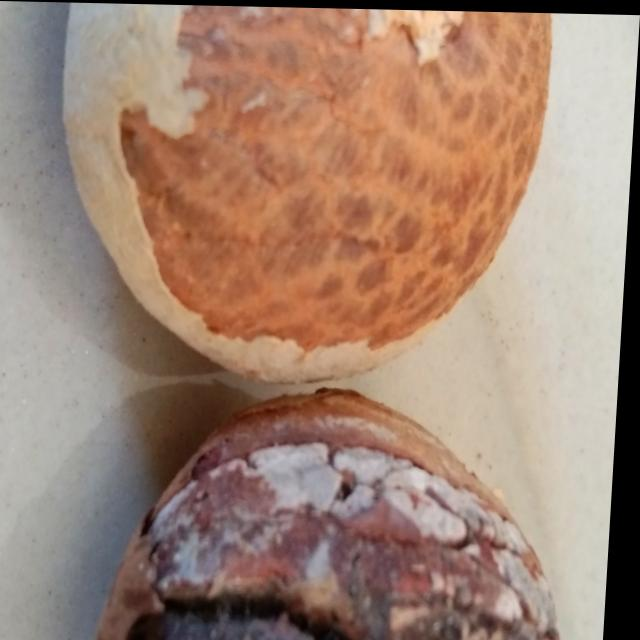karigot: (80, 391, 609, 640)
phatora: (33, 1, 559, 396)
